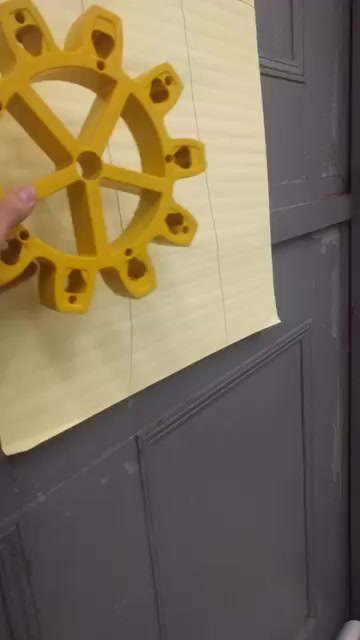gear: (1, 1, 214, 320)
